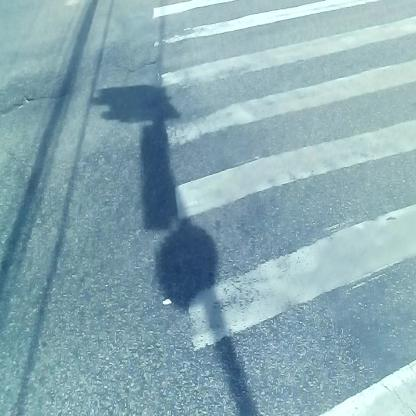crosswalk: (142, 5, 416, 416)
